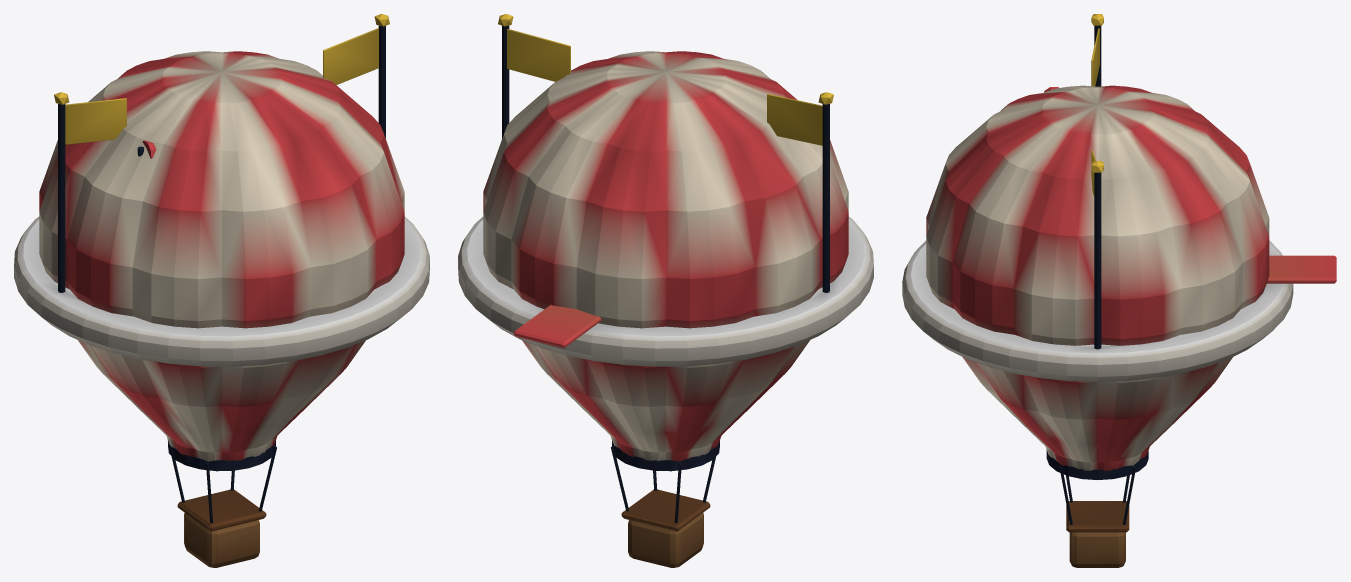
File: common-A1iOOL9g.glb
The picture shows the model from 3 angles, left to right: view 1: azimuth 30°, elevation 25°; view 2: azimuth 150°, elevation 25°; view 3: azimuth 270°, elevation 25°; orthographic projection. The views are drawn at different scales.
Visible parts, largest first — view 1: balloon_0, landing; view 2: balloon_0, landing, perch; view 3: balloon_0, landing, perch.
Boxes of the visible parts, left/top/right/bottom form: balloon_0: left=39, top=51, right=404, bottom=567; landing: left=14, top=14, right=429, bottom=366; balloon_0: left=483, top=51, right=848, bottom=567; landing: left=458, top=14, right=873, bottom=366; perch: left=514, top=305, right=601, bottom=348; balloon_0: left=926, top=85, right=1269, bottom=567; landing: left=902, top=14, right=1293, bottom=381; perch: left=1044, top=87, right=1336, bottom=283.
Size of the model in its own units: 18 by 23.95 by 20.
